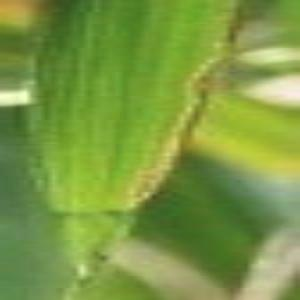2 BacterialBlight: (37, 3, 235, 276)
